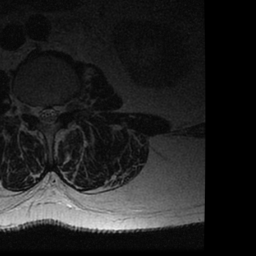CCS_stenosis: (43, 98, 52, 131)
LFS_normal: (60, 96, 69, 120)
LLS_normal: (51, 98, 60, 126)
RFS_normal: (26, 94, 34, 121)
RLS_normal: (35, 97, 43, 125)
